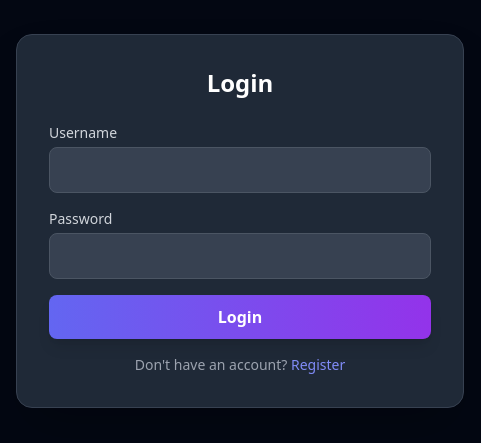
Scenario: LoginPage › displays error message when login fails
The image size is (481, 443).
Step 1. Type "testuser" into the field with id "username" → (240, 170), box [49, 147, 431, 193]
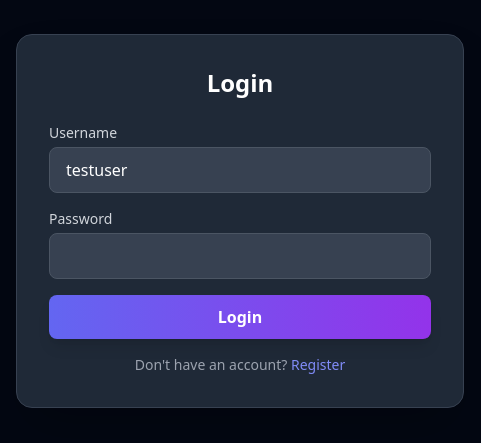
Step 2. Type "wrong" into the password field labelled "Password" → (240, 256), box [49, 233, 431, 279]
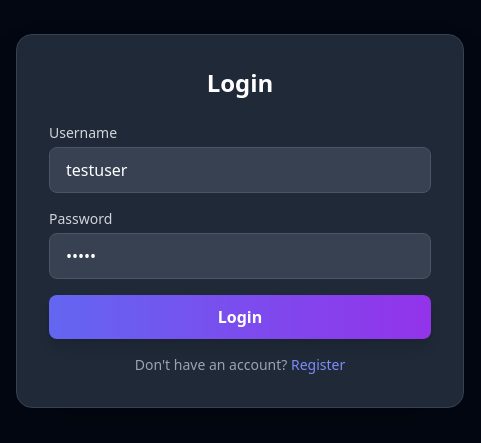
Step 3. Submit the form, box [49, 123, 431, 339]
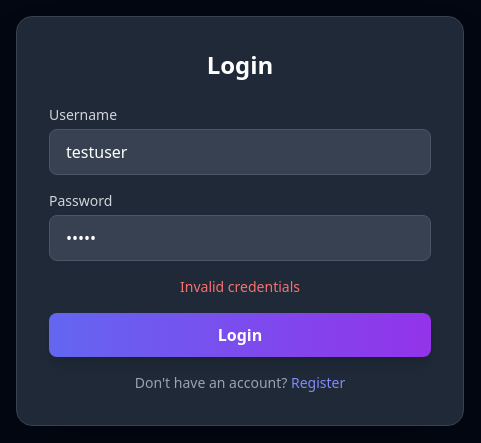
Now the text with class "error" reads "Invalid credentials", box [180, 277, 300, 296]
